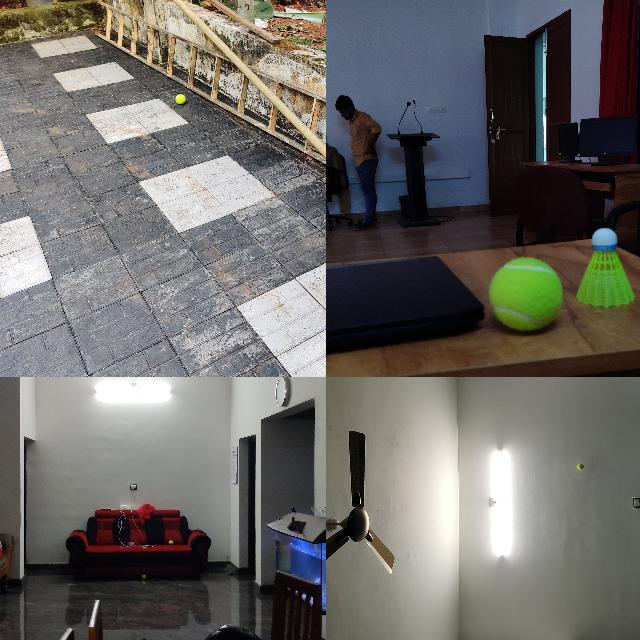tennis-ball: (489, 258, 561, 330), (175, 94, 185, 104), (577, 464, 584, 471), (169, 540, 173, 544), (141, 574, 145, 578)
